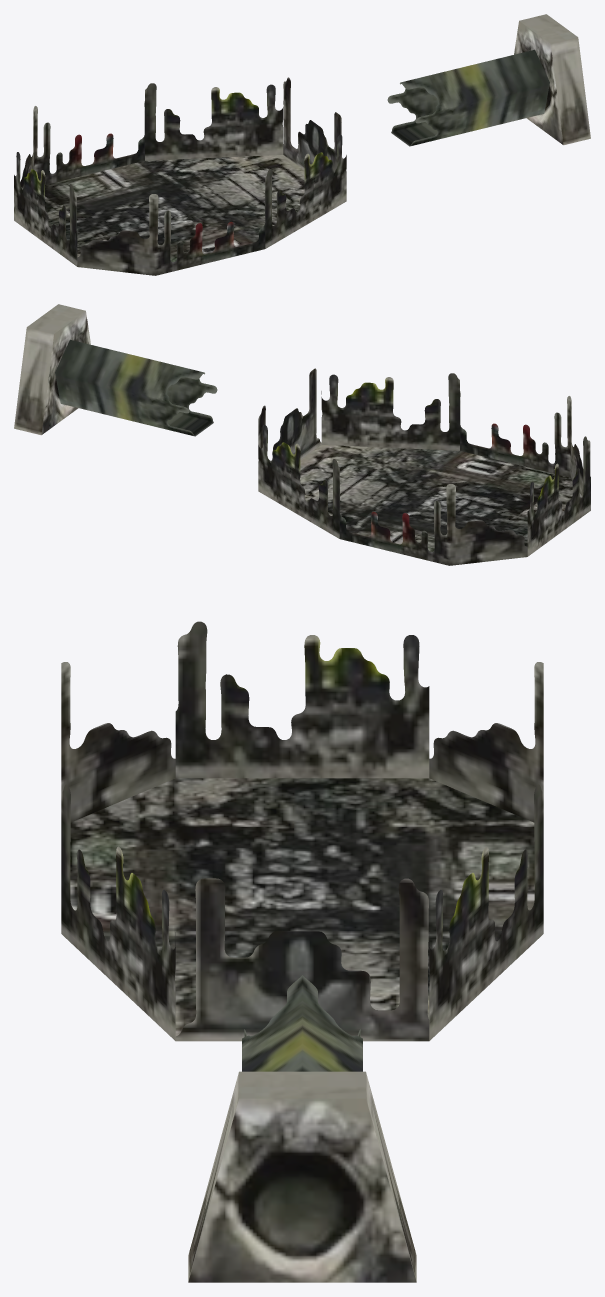
Rendered from endpipe_dam_hdtex.glb.
The picture shows the model from 3 angles, top to bottom: view 1: azimuth 30°, elevation 25°; view 2: azimuth 150°, elevation 25°; view 3: azimuth 270°, elevation 25°; orthographic projection. The views are drawn at different scales.
Visible parts, largest first — view 1: End damaged; view 2: End damaged; view 3: End damaged.
Part boxes in pixels (<box>): End damaged: <box>14,14,590,275</box>; End damaged: <box>14,304,590,565</box>; End damaged: <box>61,621,543,1282</box>.
Bounding box in the file's own units: 16.02 × 2.73 × 6.48.
1 material, 1 textured.
